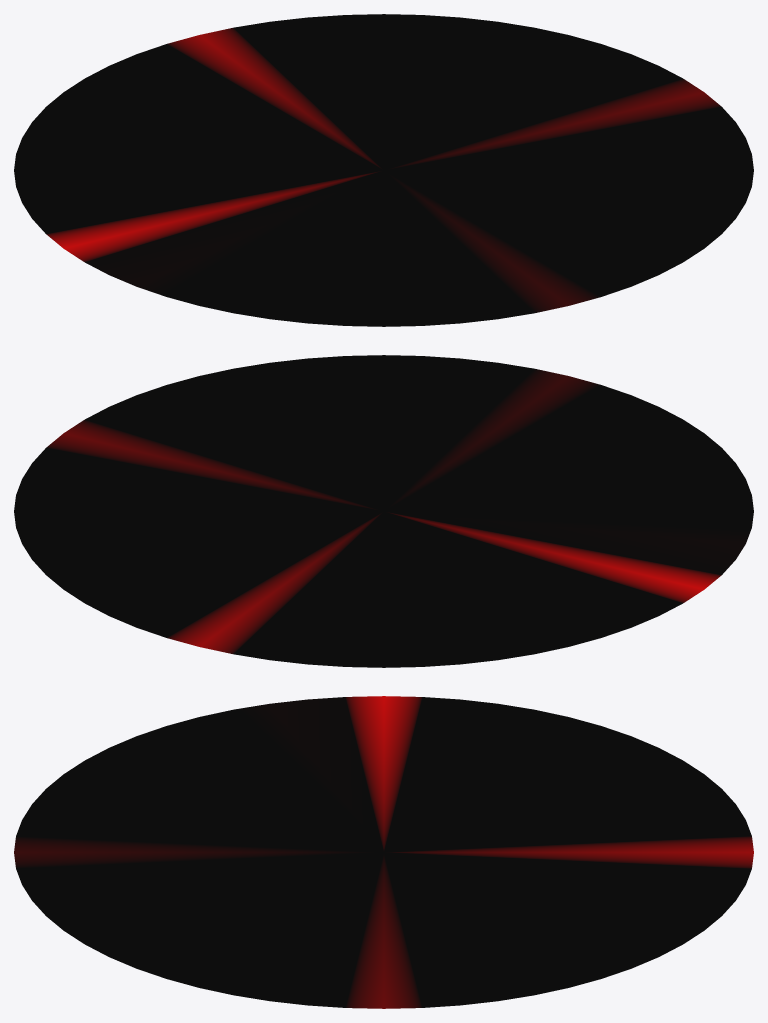
Rendered from ring 1.fbx.
3 renders of one model, top to bottom at view 1: azimuth 30°, elevation 25°; view 2: azimuth 150°, elevation 25°; view 3: azimuth 270°, elevation 25°, orthographic.
Visible parts, largest first — view 1: pCylinder1; view 2: pCylinder1; view 3: pCylinder1.
Part boxes in pixels (x1,y1,x2,y2): pCylinder1: (14,14,753,326); pCylinder1: (14,355,753,667); pCylinder1: (14,696,753,1008).
Size of the model in its own units: 14.09 by 0 by 14.09.
